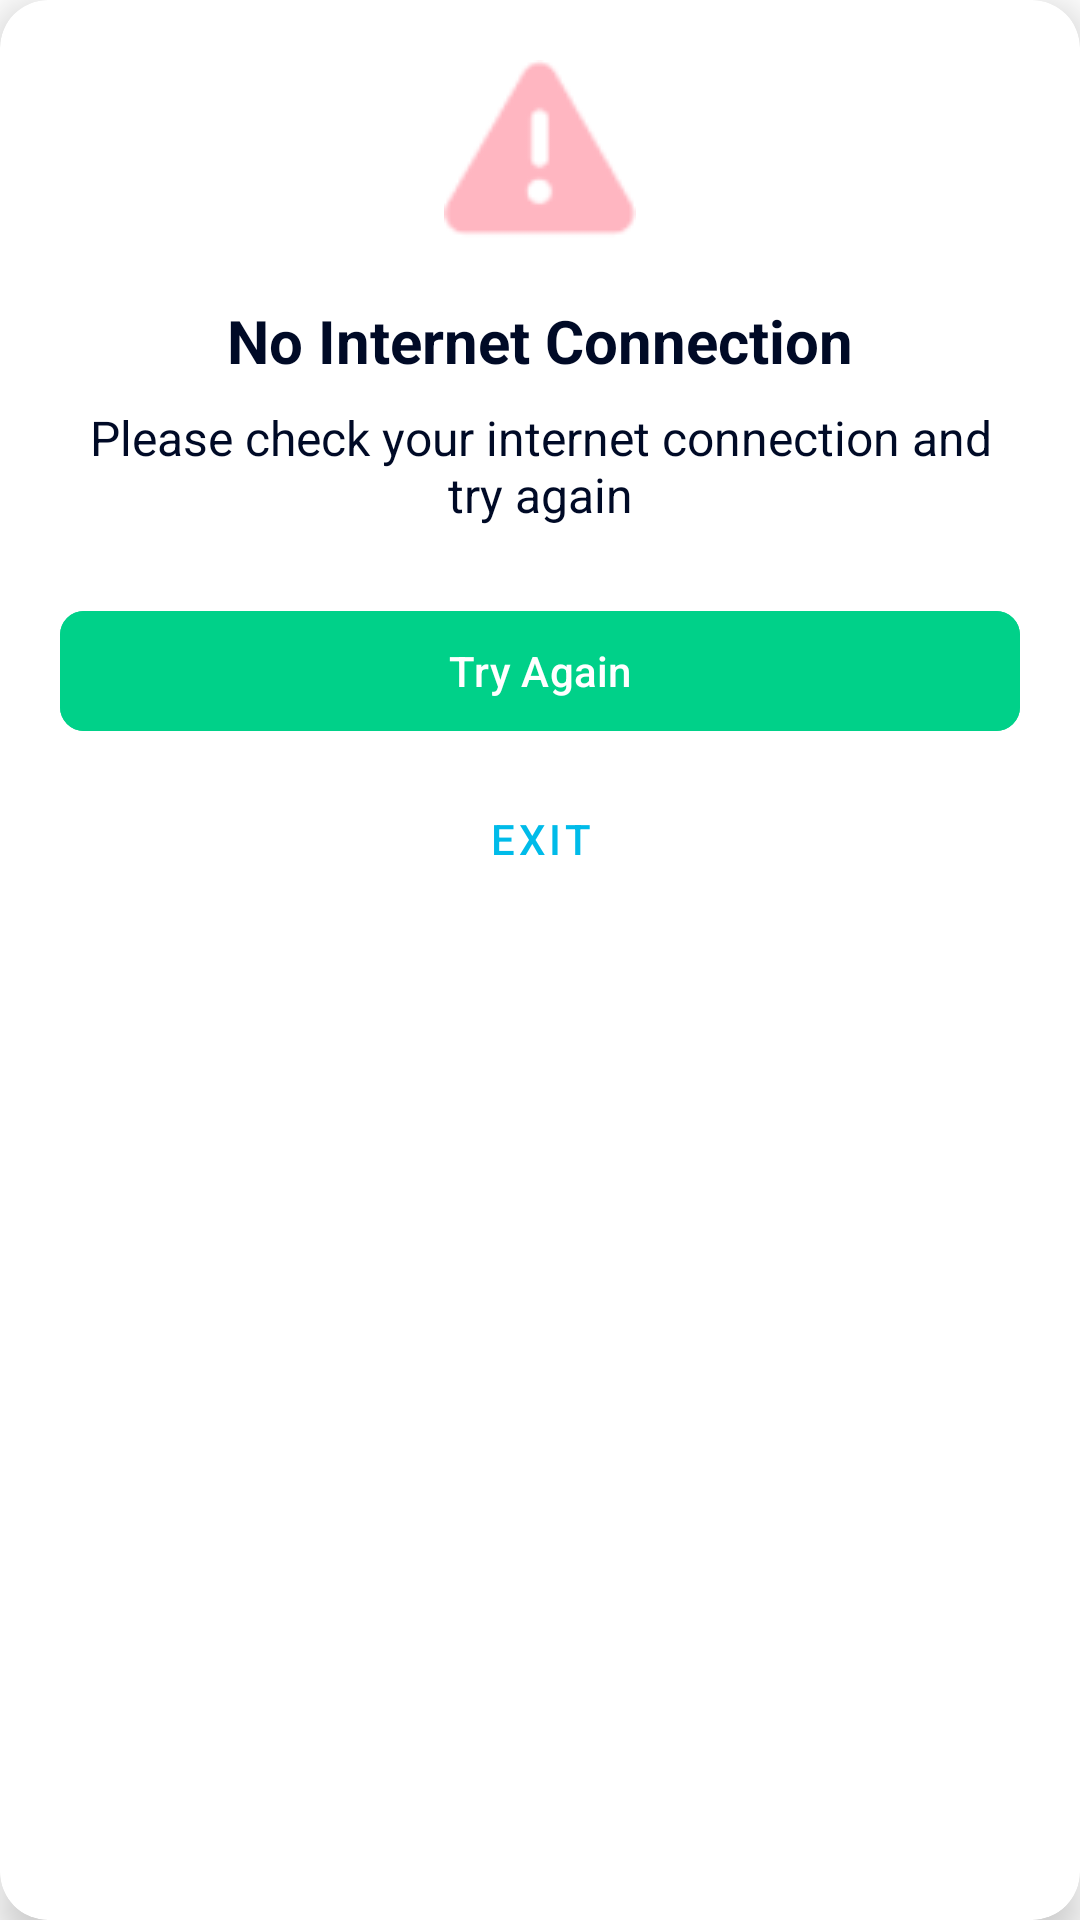

Point at icon controls on the screen. Image size 1080*1920, points as point (x, y).
alert: point (539, 148)
